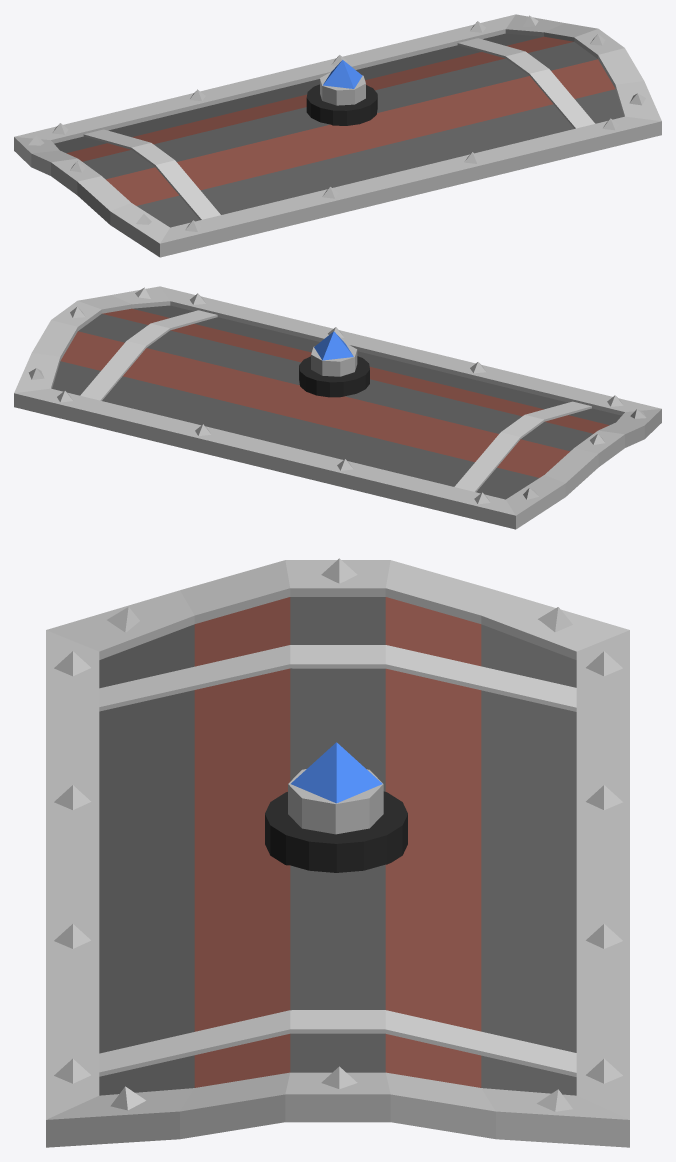
Rendered from Shield_2_d_r.fbx.
3 renders of one model, top to bottom at view 1: azimuth 30°, elevation 25°; view 2: azimuth 150°, elevation 25°; view 3: azimuth 270°, elevation 25°, orthographic. The views are drawn at different scales.
Visible parts, largest first — view 1: Plane.109, Plane.110, Plane.108, Plane.106, Plane.107, Circle.060, Cone.175, Circle.061, Cone.176; view 2: Plane.109, Plane.110, Plane.108, Plane.107, Plane.106, Circle.060, Cone.175, Circle.061, Cone.176; view 3: Plane.110, Plane.109, Plane.108, Plane.106, Plane.107, Circle.060, Cone.175, Circle.061, Cone.176.
Part boxes in pixels (x1,y1,x2,y2): Plane.109: [14, 14, 661, 257]; Plane.110: [54, 33, 623, 227]; Plane.108: [66, 36, 615, 205]; Plane.106: [457, 38, 595, 128]; Plane.107: [83, 129, 220, 219]; Circle.060: [306, 84, 377, 125]; Cone.175: [28, 15, 645, 231]; Circle.061: [320, 72, 365, 105]; Cone.176: [323, 60, 362, 88]; Plane.109: [14, 286, 661, 529]; Plane.110: [52, 305, 621, 499]; Plane.108: [60, 308, 609, 477]; Plane.107: [454, 401, 591, 492]; Plane.106: [80, 310, 217, 400]; Circle.060: [299, 356, 369, 397]; Cone.175: [28, 287, 646, 504]; Circle.061: [311, 343, 357, 376]; Cone.176: [314, 331, 353, 360]; Plane.110: [99, 597, 576, 1095]; Plane.109: [46, 560, 629, 1147]; Plane.108: [194, 597, 481, 1087]; Plane.106: [99, 1010, 576, 1076]; Plane.107: [99, 645, 576, 711]; Circle.060: [265, 791, 407, 872]; Cone.175: [54, 558, 622, 1111]; Circle.061: [288, 769, 383, 834]; Cone.176: [291, 742, 382, 803].
Bounding box in the file's own units: 132 × 24.84 × 61.17.
